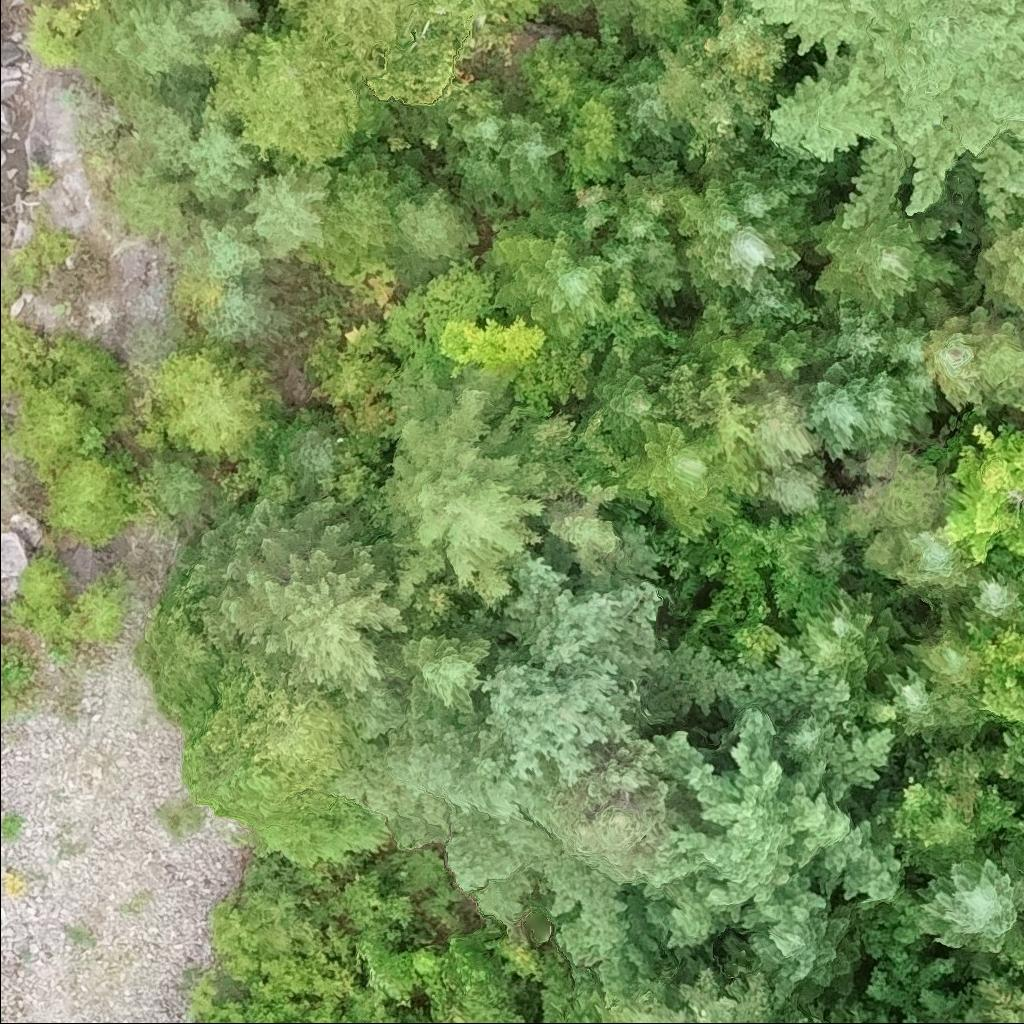crown: (476, 518, 853, 786), (640, 704, 903, 956), (744, 0, 1023, 232), (193, 491, 414, 704), (330, 715, 534, 931), (380, 362, 550, 607), (506, 736, 714, 889), (201, 17, 398, 173), (198, 644, 383, 808), (273, 0, 541, 107), (806, 200, 967, 322), (607, 417, 738, 548), (309, 140, 432, 274), (148, 344, 284, 461), (481, 227, 609, 344), (106, 0, 263, 92), (928, 442, 1023, 571), (5, 373, 102, 487), (913, 854, 1023, 954), (860, 526, 984, 614), (680, 220, 804, 305), (399, 625, 500, 725), (239, 162, 332, 265), (388, 179, 477, 283), (435, 311, 552, 390), (794, 355, 871, 469), (752, 909, 859, 991), (492, 104, 571, 215), (624, 965, 775, 1023), (111, 83, 204, 177), (45, 451, 134, 548), (526, 500, 623, 588), (610, 54, 689, 160), (814, 586, 909, 671), (183, 121, 264, 219), (562, 75, 635, 183), (902, 605, 981, 699), (586, 361, 664, 456), (719, 167, 808, 249), (954, 217, 1023, 320), (923, 303, 988, 412), (788, 609, 871, 692), (867, 773, 941, 864), (182, 210, 268, 285), (879, 651, 942, 745), (112, 162, 192, 236), (729, 267, 816, 335), (278, 406, 340, 500), (753, 322, 837, 383), (822, 297, 887, 374), (865, 367, 928, 445), (773, 707, 847, 772), (195, 279, 263, 347), (621, 157, 696, 218), (832, 666, 901, 729), (976, 314, 1023, 404), (676, 176, 742, 238), (71, 580, 135, 643), (622, 0, 703, 48), (954, 569, 1023, 625), (971, 421, 1023, 492), (451, 140, 505, 208), (700, 325, 774, 372), (448, 106, 515, 157), (879, 308, 930, 369), (969, 672, 1023, 727), (13, 557, 68, 611), (607, 201, 673, 245), (592, 233, 644, 283), (934, 691, 973, 746), (541, 0, 594, 16), (793, 1017, 829, 1023), (1019, 760, 1023, 802), (1020, 400, 1023, 407)
